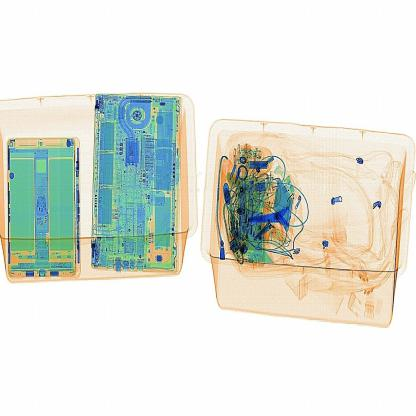gun: (244, 198, 317, 238)
